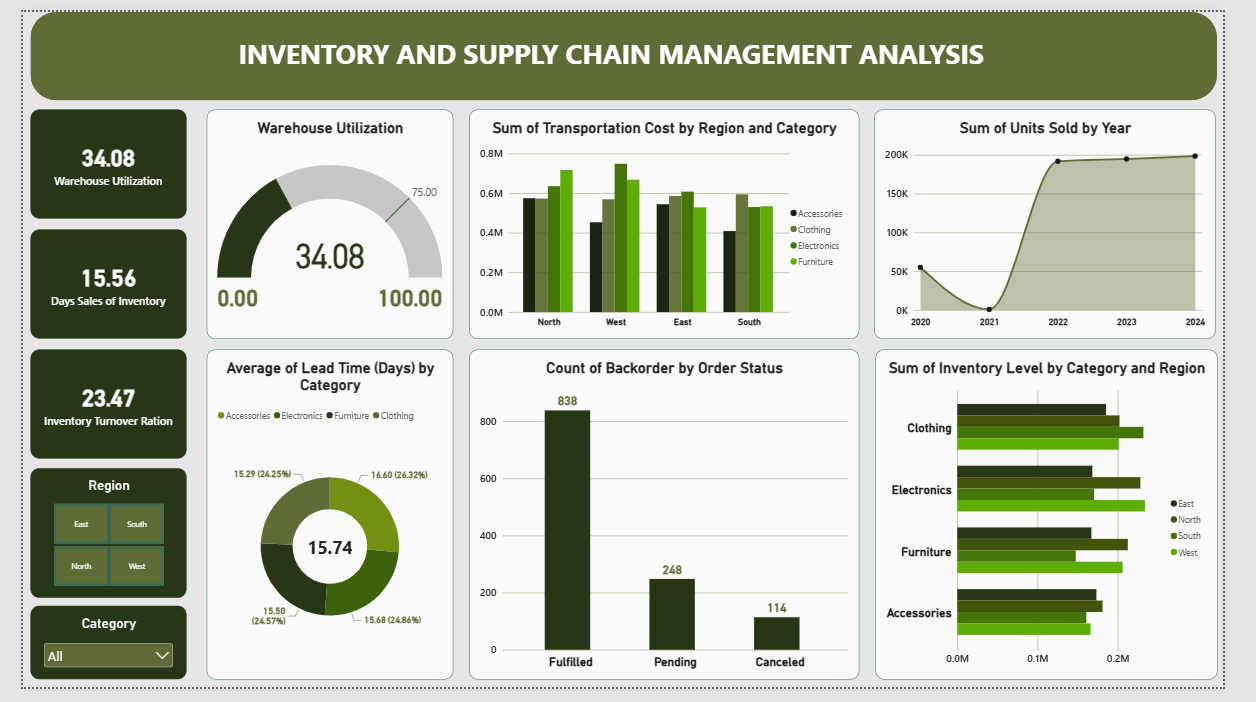

Layout of this report page (visuals, bound fields, positions):
{"tool":"powerbi","page":{"name":"Page 1","canvas":[1920,1080],"ordinal":0},"visuals":[{"type":"shape","box":[11,0,1898.4,141.2],"z":0},{"type":"textbox","box":[311.8,36.7,1269.3,69.7],"z":1000},{"type":"card","fields":{"Values":["Inventory and Supply Chain Dataset.Warehouse Utilization"]},"box":[11,155.9,249.5,174.3],"z":2000},{"type":"card","fields":{"Values":["Inventory and Supply Chain Dataset.Days Sales of Inventory"]},"box":[11,348.5,249.5,174.3],"z":3000},{"type":"card","fields":{"Values":["Inventory and Supply Chain Dataset.Inventory Turnover Ration"]},"box":[11,539.3,249.5,174.3],"z":4000},{"type":"slicer","title":"Region","fields":{"Values":["Inventory and Supply Chain Dataset.Region"]},"box":[11,730,249.5,207.3],"z":5000},{"type":"slicer","title":"Category ","fields":{"Values":["Inventory and Supply Chain Dataset.Category"]},"box":[11,950.1,249.5,117.4],"z":6000},{"type":"gauge","fields":{"Y":["Inventory and Supply Chain Dataset.Warehouse Utilization"]},"box":[293.5,155.9,394.4,366.8],"z":7000},{"type":"clusteredColumnChart","fields":{"Category":["Inventory and Supply Chain Dataset.Region"],"Series":["Inventory and Supply Chain Dataset.Category"],"Y":["Sum(Inventory and Supply Chain Dataset.Transportation Cost)"]},"box":[713.5,155.9,623.6,366.8],"z":8000},{"type":"lineChart","fields":{"Category":["Inventory and Supply Chain Dataset.Date.Variation.Date Hierarchy.Year"],"Y":["Sum(Inventory and Supply Chain Dataset.Units Sold)"]},"box":[1362.8,155.9,546.6,366.8],"z":9000},{"type":"donutChart","fields":{"Category":["Inventory and Supply Chain Dataset.Category"],"Y":["Avg(Inventory and Supply Chain Dataset.Lead Time (Days))"]},"box":[293.5,539.3,394.4,528.3],"z":10000},{"type":"columnChart","fields":{"Category":["Inventory and Supply Chain Dataset.Order Status"],"Y":["CountNonNull(Inventory and Supply Chain Dataset.Backorder)"]},"box":[713.5,539.3,623.6,528.3],"z":10001},{"type":"clusteredBarChart","fields":{"Category":["Inventory and Supply Chain Dataset.Category"],"Series":["Inventory and Supply Chain Dataset.Region"],"Y":["Sum(Inventory and Supply Chain Dataset.Inventory Level)"]},"box":[1363,539,547,528],"z":10002}]}

Visuals, with their boxes in screenshot pixels (x1, y1, x2, y2), scaled from the page's 1920x1080 canvas onto the 1256x702 screenshot:
shape: <region>7, 0, 1249, 92</region>
textbox: <region>204, 24, 1034, 69</region>
card - Inventory and Supply Chain Dataset.Warehouse Utilization: <region>7, 101, 170, 215</region>
card - Inventory and Supply Chain Dataset.Days Sales of Inventory: <region>7, 227, 170, 340</region>
card - Inventory and Supply Chain Dataset.Inventory Turnover Ration: <region>7, 351, 170, 464</region>
"Region" slicer: <region>7, 474, 170, 609</region>
"Category " slicer: <region>7, 618, 170, 694</region>
gauge - Inventory and Supply Chain Dataset.Warehouse Utilization: <region>192, 101, 450, 340</region>
clusteredColumnChart - Inventory and Supply Chain Dataset.Region x Inventory and Supply Chain Dataset.Category: <region>467, 101, 875, 340</region>
lineChart - Inventory and Supply Chain Dataset.Date.Variation.Date Hierarchy.Year x Sum(Inventory and Supply Chain Dataset.Units Sold): <region>891, 101, 1249, 340</region>
donutChart - Inventory and Supply Chain Dataset.Category x Avg(Inventory and Supply Chain Dataset.Lead Time (Days)): <region>192, 351, 450, 694</region>
columnChart - Inventory and Supply Chain Dataset.Order Status x CountNonNull(Inventory and Supply Chain Dataset.Backorder): <region>467, 351, 875, 694</region>
clusteredBarChart - Inventory and Supply Chain Dataset.Category x Inventory and Supply Chain Dataset.Region: <region>892, 350, 1249, 694</region>
